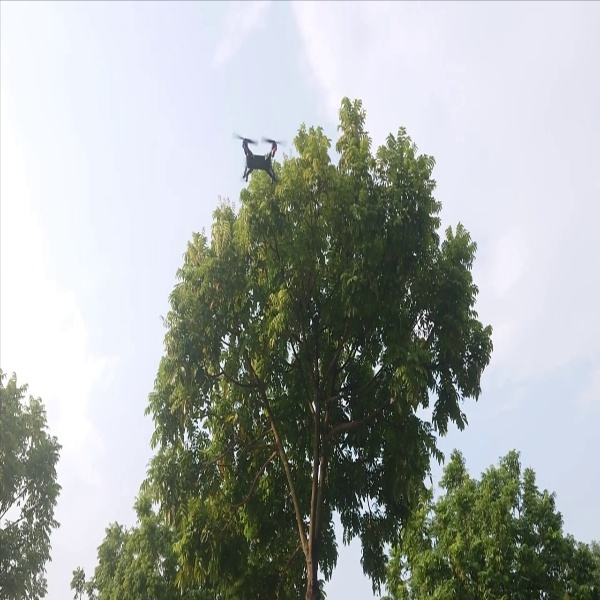drone: (229, 125, 289, 185)
